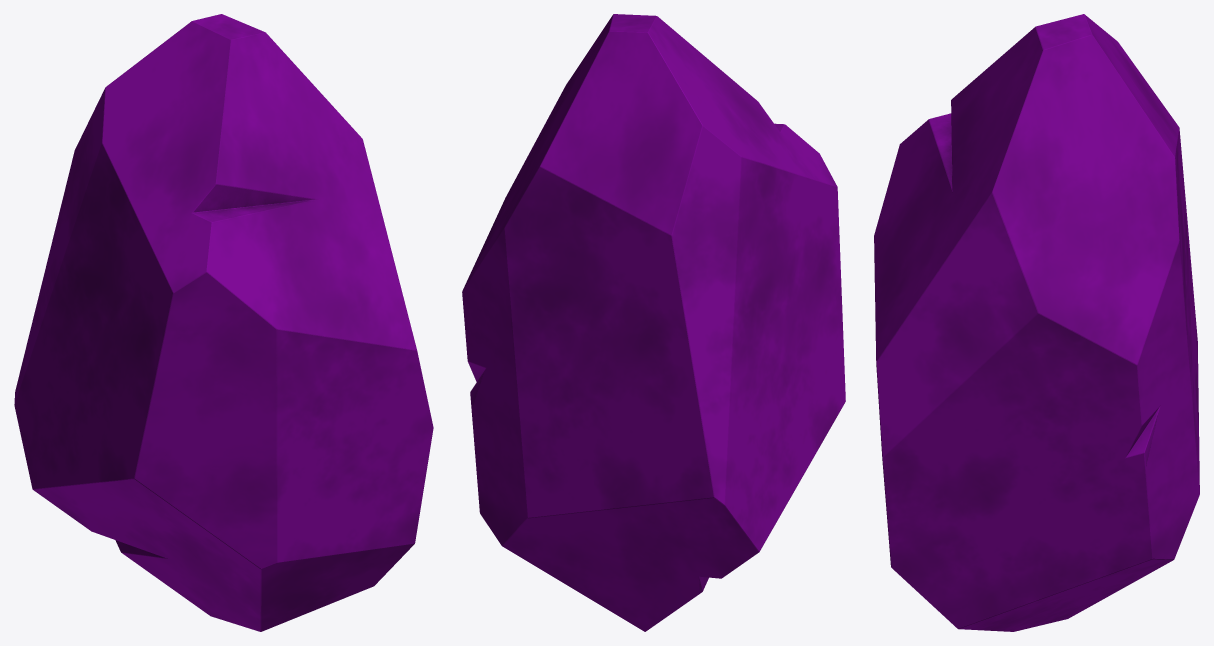
Rendered from Crystal _Single_Object_Textured.fbx.
3 views of the same model, side by side, from view 1: azimuth 30°, elevation 25°; view 2: azimuth 150°, elevation 25°; view 3: azimuth 270°, elevation 25° (orthographic). The views are drawn at different scales.
Visible parts, largest first — view 1: Crystal.002; view 2: Crystal.002; view 3: Crystal.002.
Part boxes in pixels (x1,y1,x2,y2): Crystal.002: (14, 14, 433, 631); Crystal.002: (462, 14, 845, 631); Crystal.002: (874, 14, 1199, 631).
Size of the model in its own units: 35.09 by 67.39 by 33.11.
